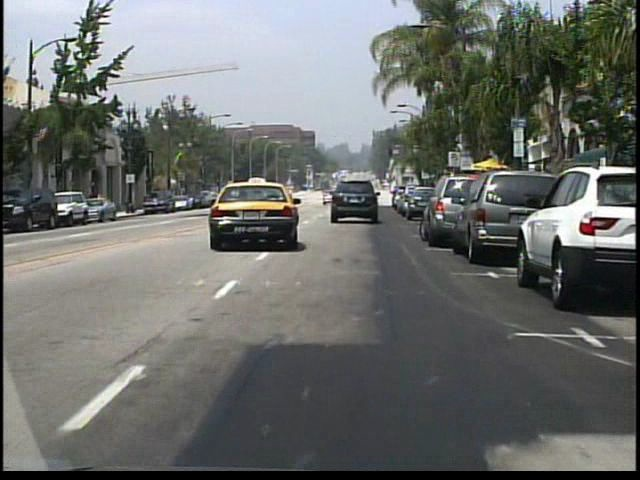person: (89, 187, 101, 215), (96, 189, 108, 215)
